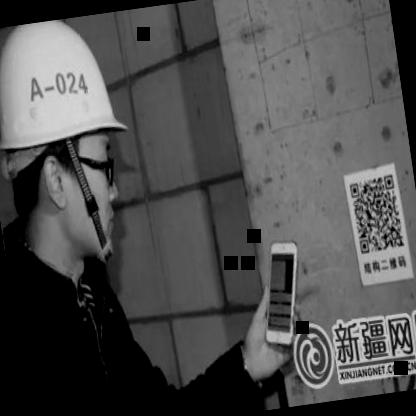helmet: (0, 10, 154, 297)
